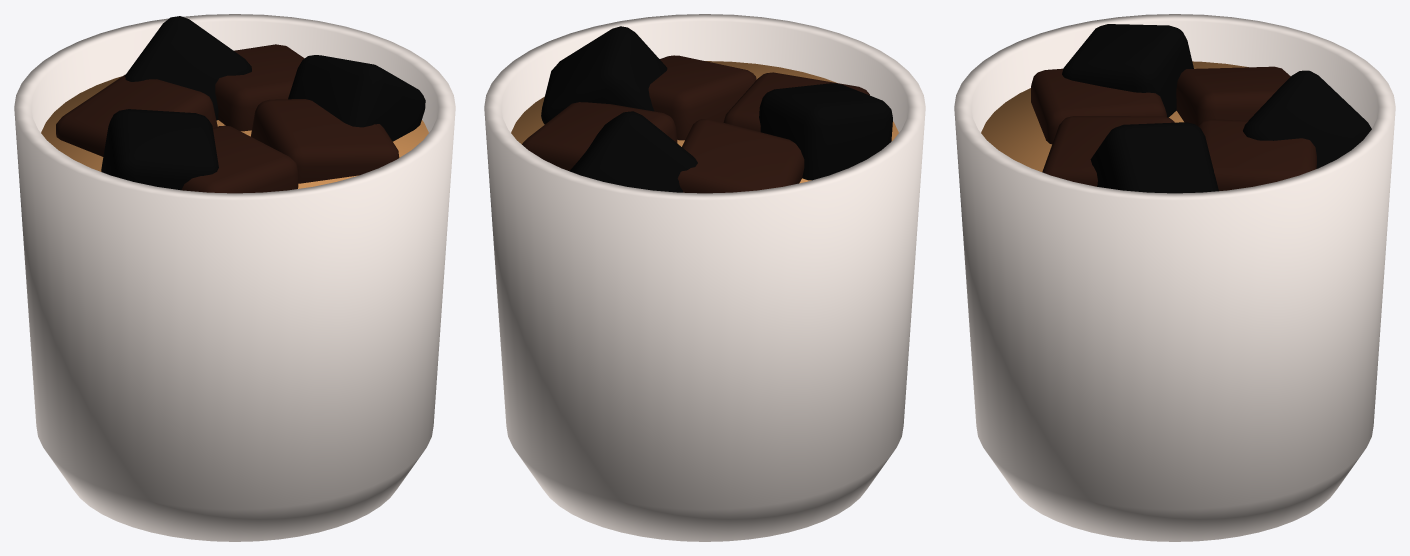
The model's file is Menu_IcedMocha.fbx.
3 renders of one model, left to right at view 1: azimuth 30°, elevation 25°; view 2: azimuth 150°, elevation 25°; view 3: azimuth 270°, elevation 25°, orthographic.
Visible parts, largest first — view 1: Menu_IcedMocha.001; view 2: Menu_IcedMocha.001; view 3: Menu_IcedMocha.001.
Boxes of the visible parts, <box> form: Menu_IcedMocha.001: <box>14,14,455,541</box>; Menu_IcedMocha.001: <box>484,14,925,541</box>; Menu_IcedMocha.001: <box>954,14,1395,541</box>.
Size of the model in its own units: 49.66 by 50.1 by 49.66.
